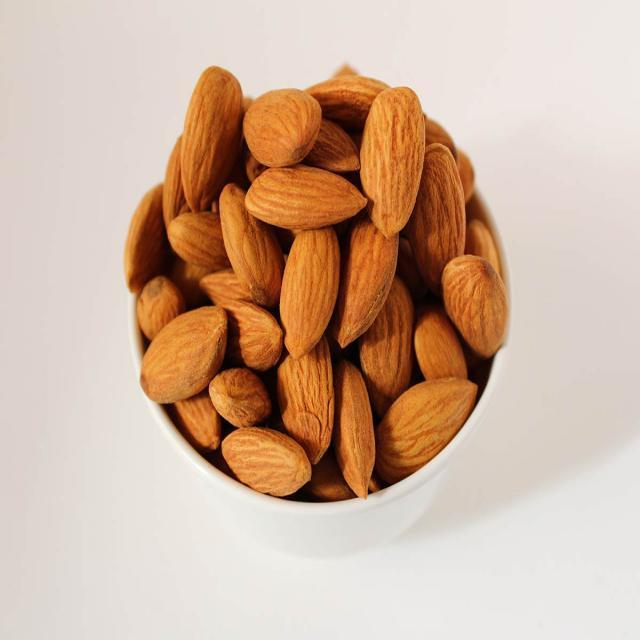almond: (378, 378, 478, 481), (179, 67, 248, 211), (361, 84, 425, 233), (141, 303, 229, 404), (408, 143, 468, 291), (278, 225, 341, 361), (335, 223, 402, 350), (219, 182, 282, 309), (275, 336, 334, 470), (246, 165, 367, 226), (360, 273, 414, 404), (244, 86, 321, 168), (221, 428, 312, 497), (441, 256, 506, 352), (123, 183, 174, 297), (337, 359, 377, 500), (218, 301, 285, 374), (413, 298, 468, 378), (209, 369, 271, 431), (167, 212, 230, 266)
